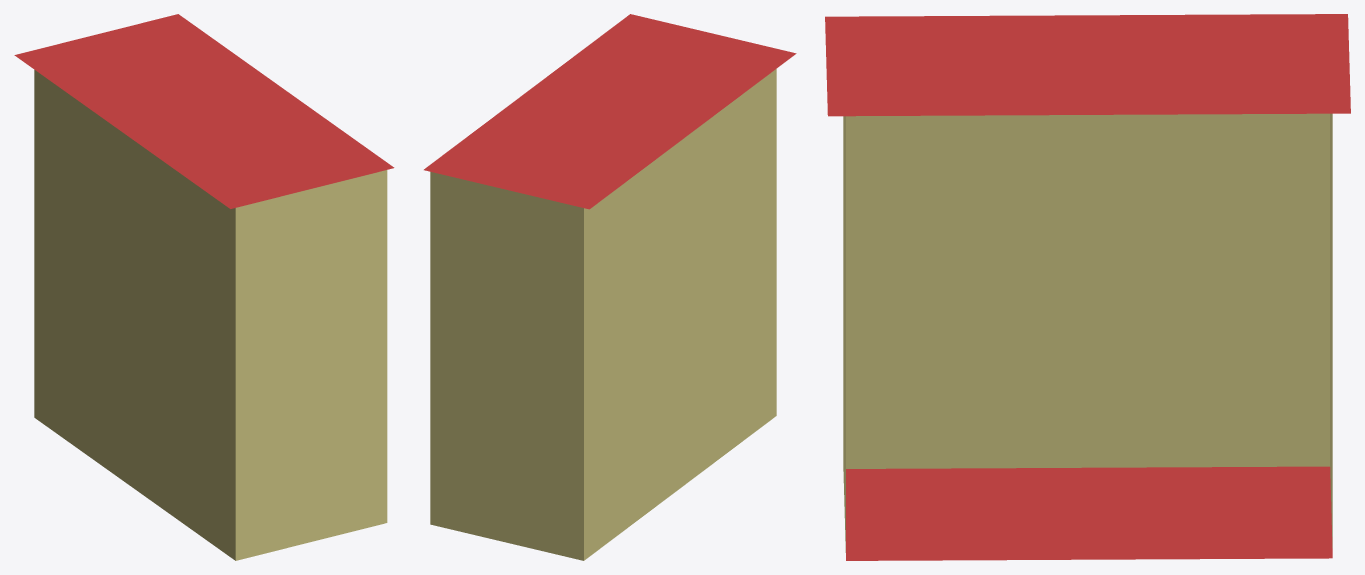
The picture shows the model from 3 angles, left to right: view 1: azimuth 30°, elevation 25°; view 2: azimuth 150°, elevation 25°; view 3: azimuth 270°, elevation 25°; orthographic projection. The views are drawn at different scales.
Size of the model in its own units: 3.33 by 7.23 by 6.75.
